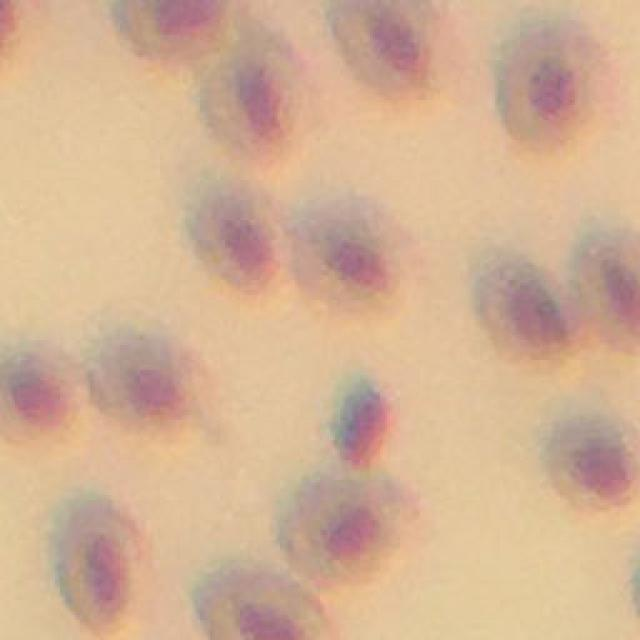RBC: (294, 192, 432, 332), (494, 18, 620, 164), (179, 167, 294, 298), (326, 0, 468, 106), (200, 35, 312, 168), (471, 244, 584, 375), (81, 320, 201, 436), (280, 478, 403, 588), (58, 500, 142, 635), (541, 412, 640, 514), (0, 345, 88, 458), (568, 222, 640, 358), (198, 570, 328, 640), (109, 0, 245, 63)
WBC: (336, 386, 397, 471)
